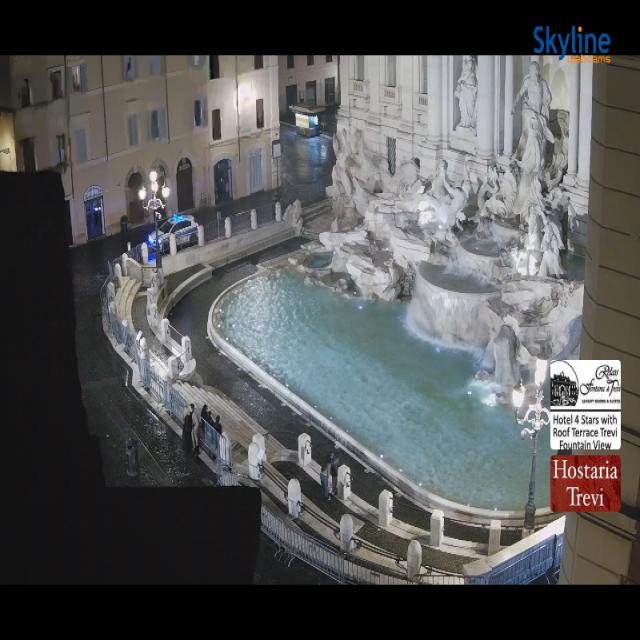person: (190, 404, 199, 456), (183, 406, 192, 454), (320, 456, 330, 499), (330, 452, 339, 495), (200, 404, 211, 438), (212, 416, 222, 449), (212, 416, 222, 435)
